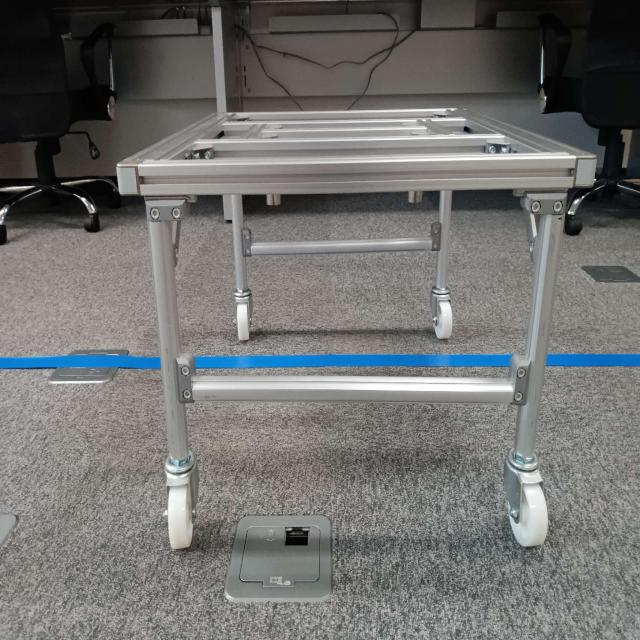side: (140, 159, 559, 414)
